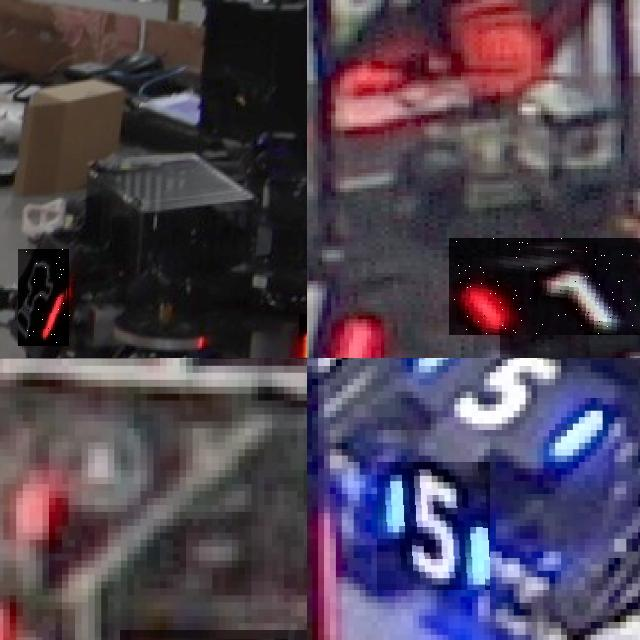B5: (377, 462, 490, 590)
R1: (448, 238, 640, 334), (307, 255, 386, 358)
Rs: (18, 249, 70, 346)
